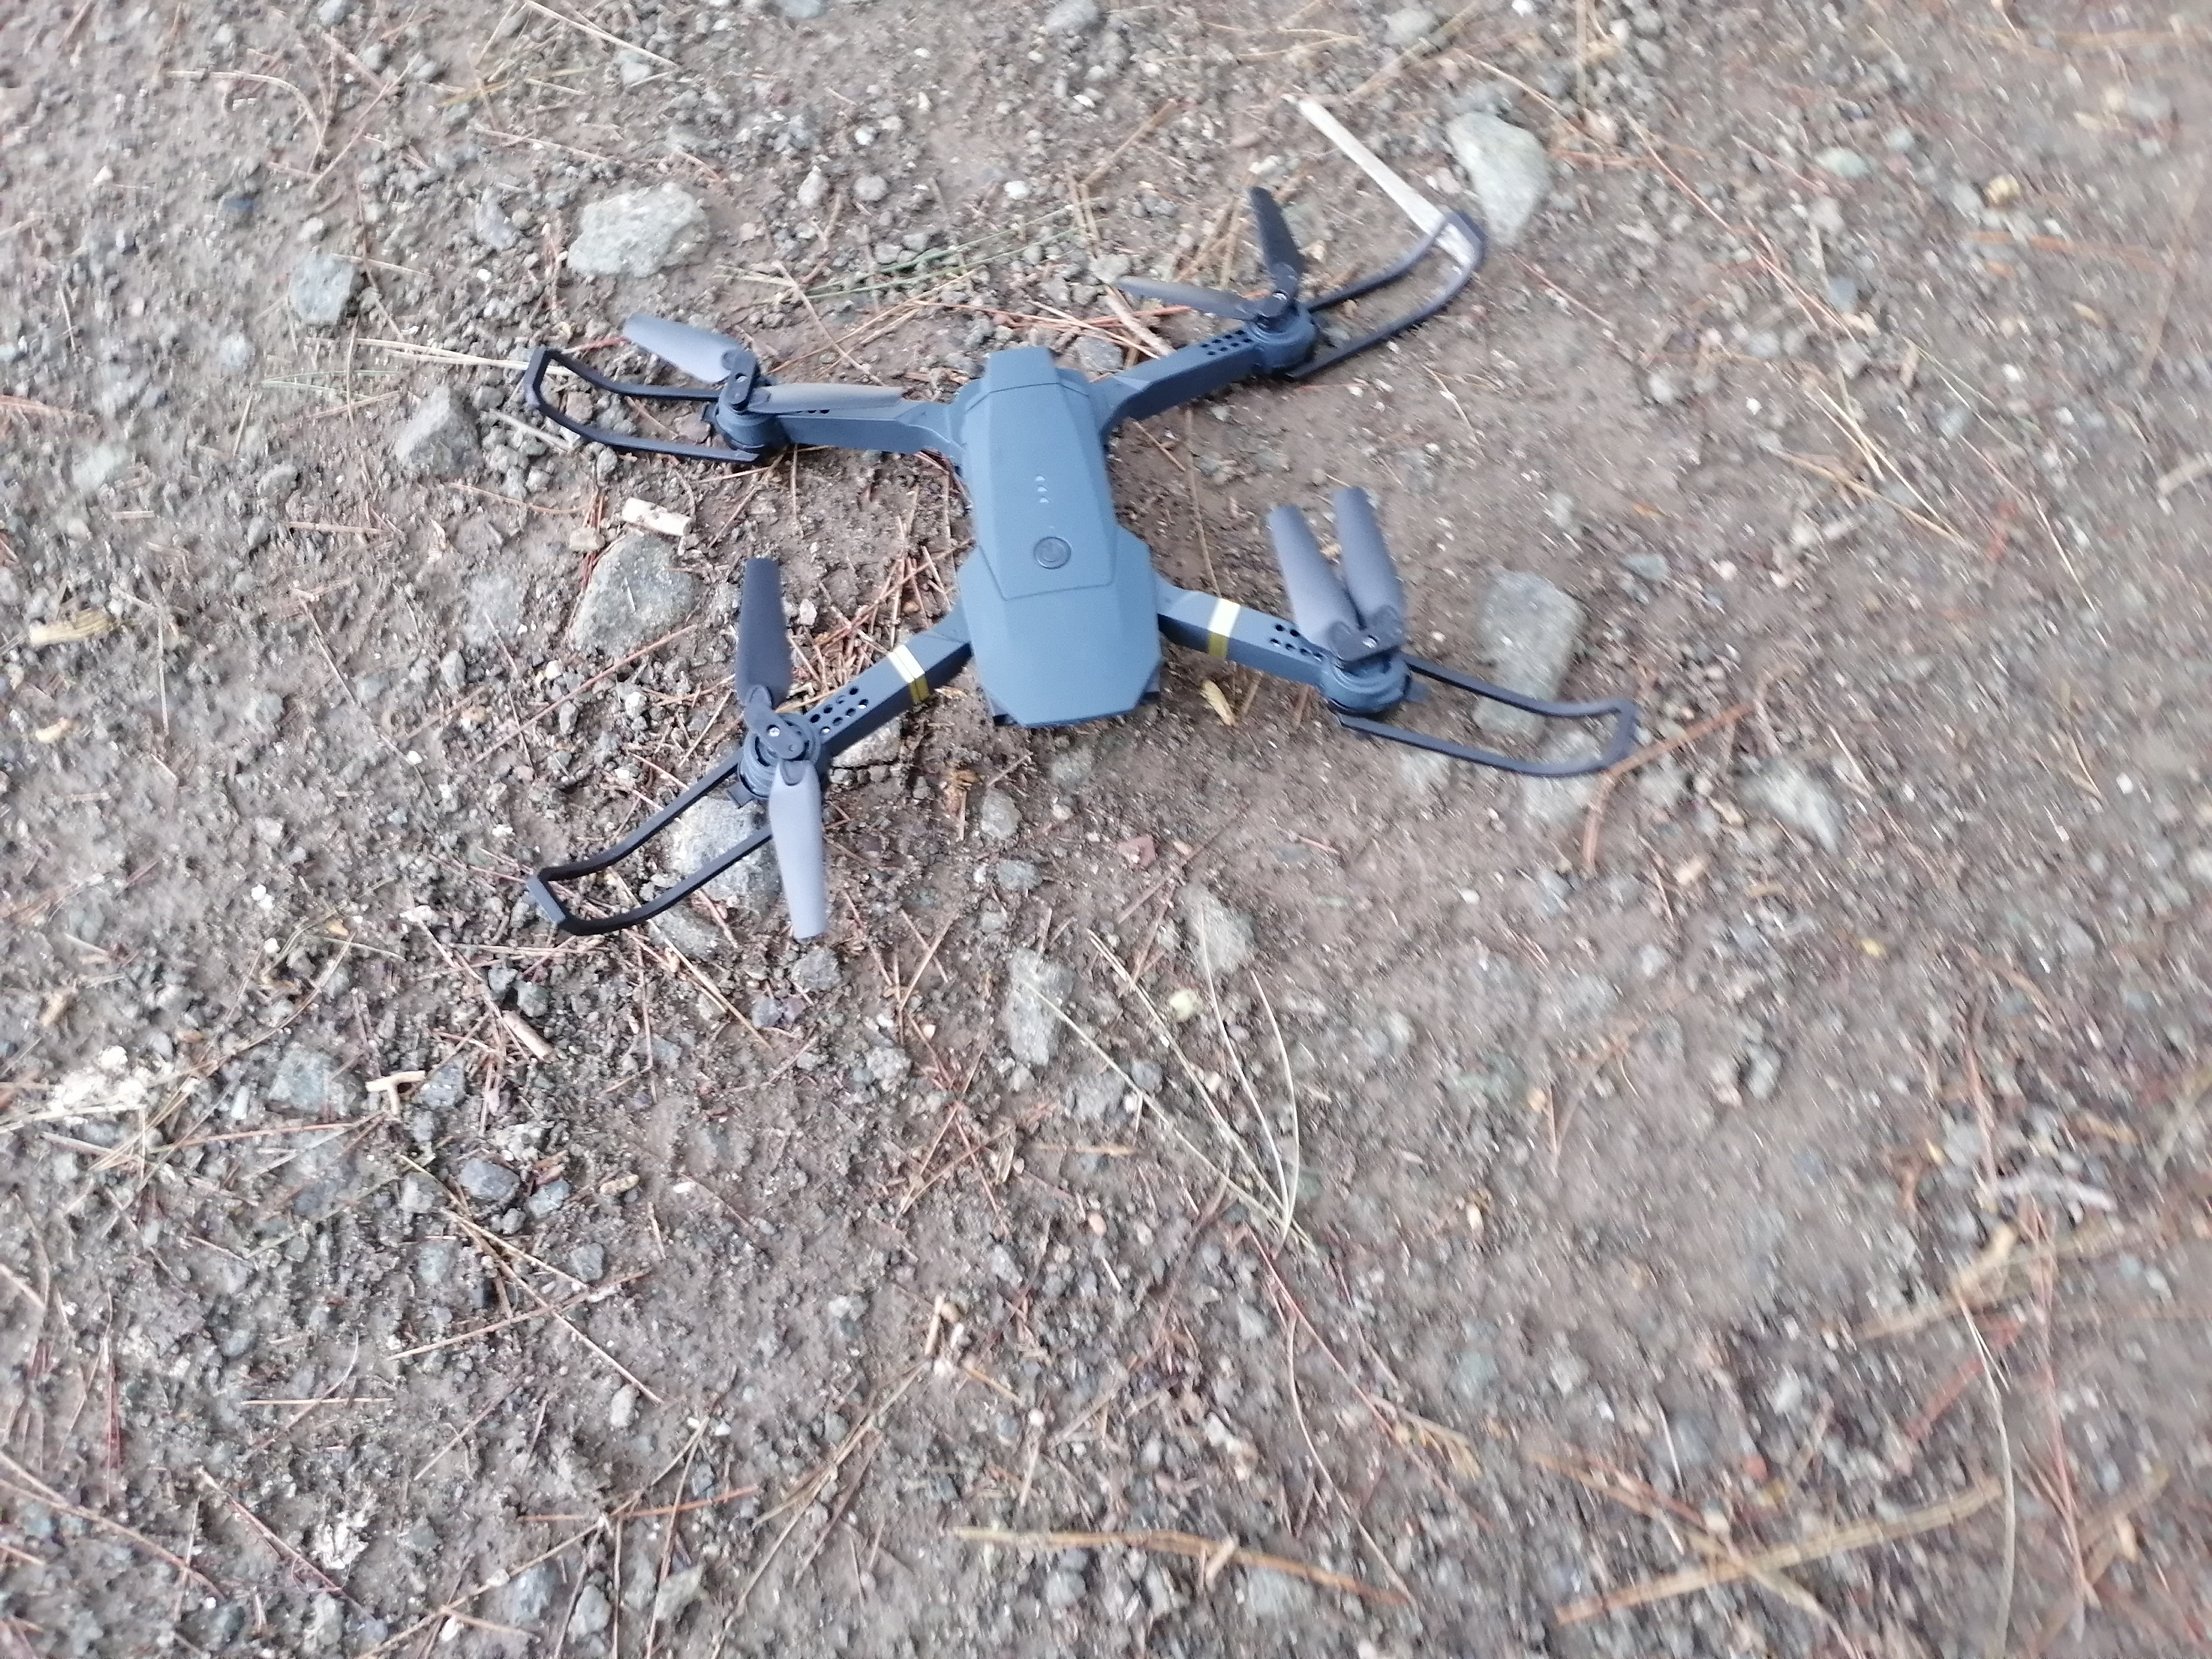drone: (479, 286, 1653, 960)
